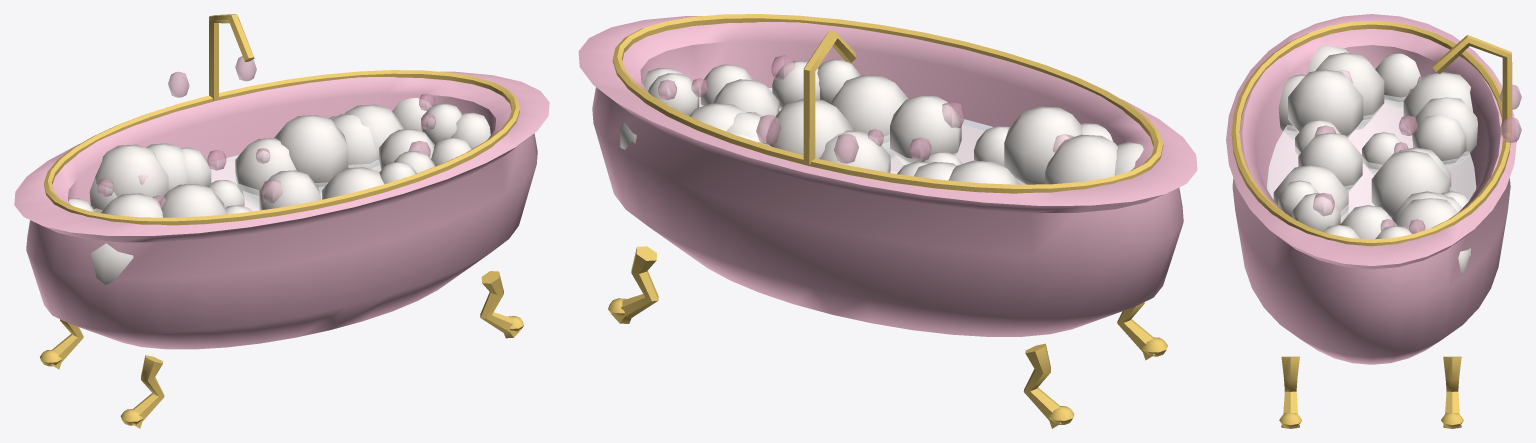
Rendered from clawfoot_tub.glb.
3 renders of one model, left to right at view 1: azimuth 30°, elevation 25°; view 2: azimuth 150°, elevation 25°; view 3: azimuth 270°, elevation 25°, orthographic. The views are drawn at different scales.
Parts seen in each view (by area): view 1: clawfoot_tub; view 2: clawfoot_tub; view 3: clawfoot_tub.
Boxes of the visible parts, box(x1,y1,x2,y2) form: clawfoot_tub: box(14, 14, 549, 428); clawfoot_tub: box(578, 14, 1197, 428); clawfoot_tub: box(1226, 14, 1521, 428).
Bounding box in the file's own units: 1.84 × 1.04 × 0.915.
